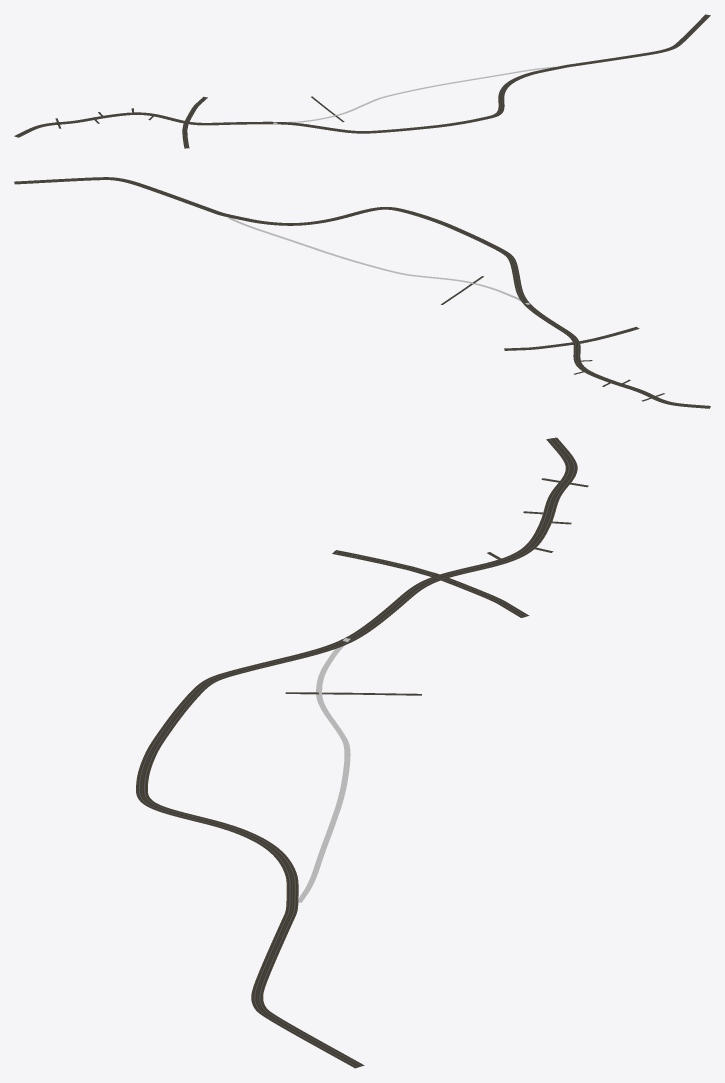
The model's file is Road_Test.fbx.
3 renders of one model, top to bottom at view 1: azimuth 30°, elevation 25°; view 2: azimuth 150°, elevation 25°; view 3: azimuth 270°, elevation 25°, orthographic. The views are drawn at different scales.
Parts seen in each view (by area): view 1: Plane.011; view 2: Plane.011; view 3: Plane.011.
Part boxes in pixels (x1=…): Plane.011: x1=14, y1=14, x2=710, y2=148; Plane.011: x1=14, y1=177, x2=710, y2=408; Plane.011: x1=136, y1=437, x2=588, y2=1068.
Size of the model in its own units: 2546 by 16.41 by 773.
